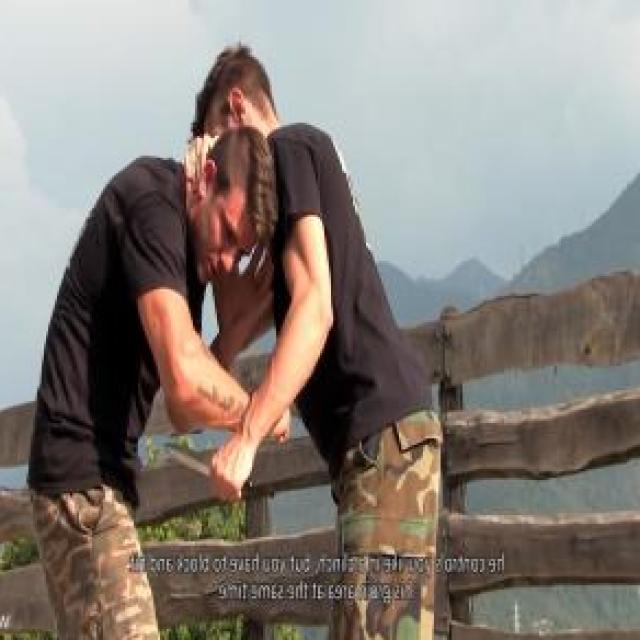knife: (160, 432, 256, 509)
